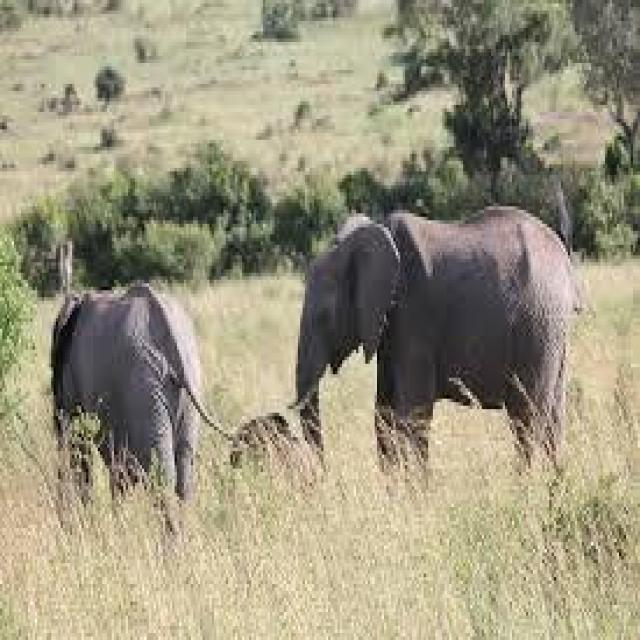Elephant: (291, 199, 572, 465), (44, 283, 207, 490)
